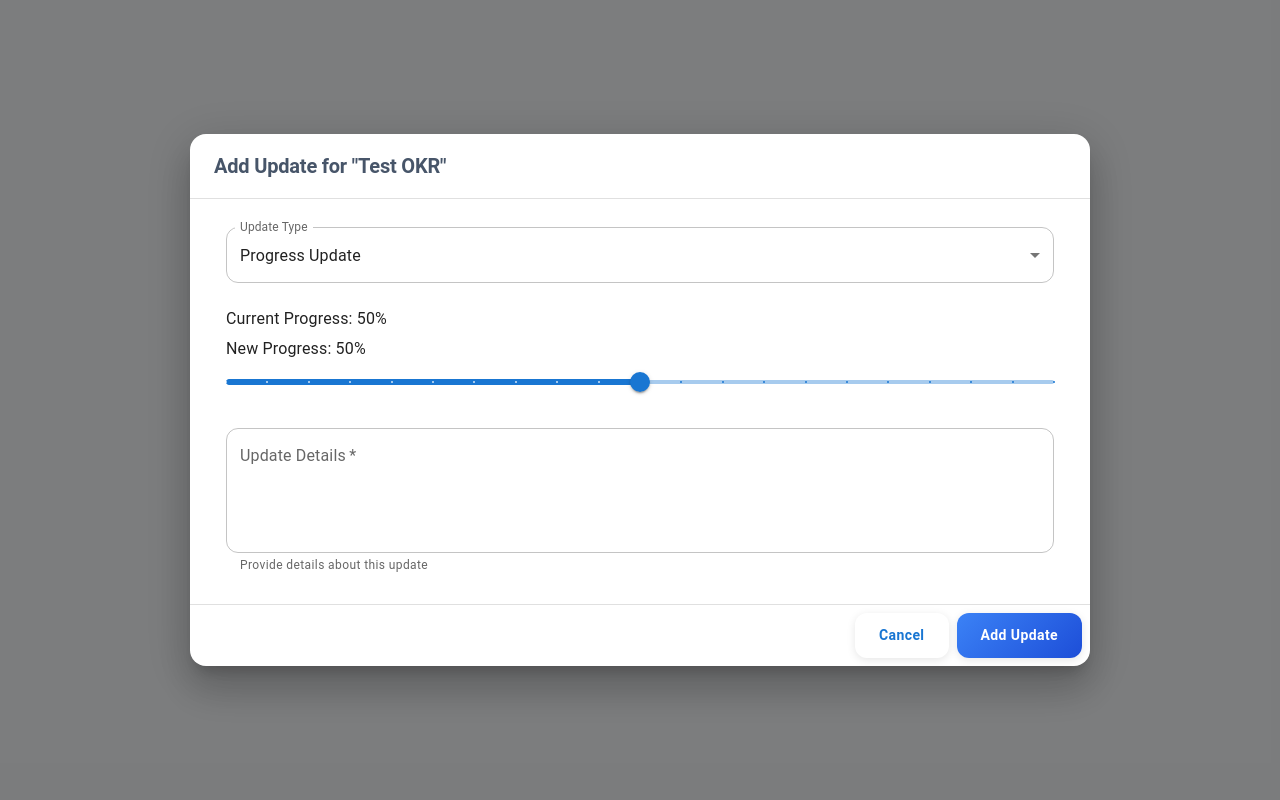
Test: OKRUpdateForm › validates required fields
Click the button "Add Update" at (1019, 635), box x1=956 y1=613 x2=1082 y2=658
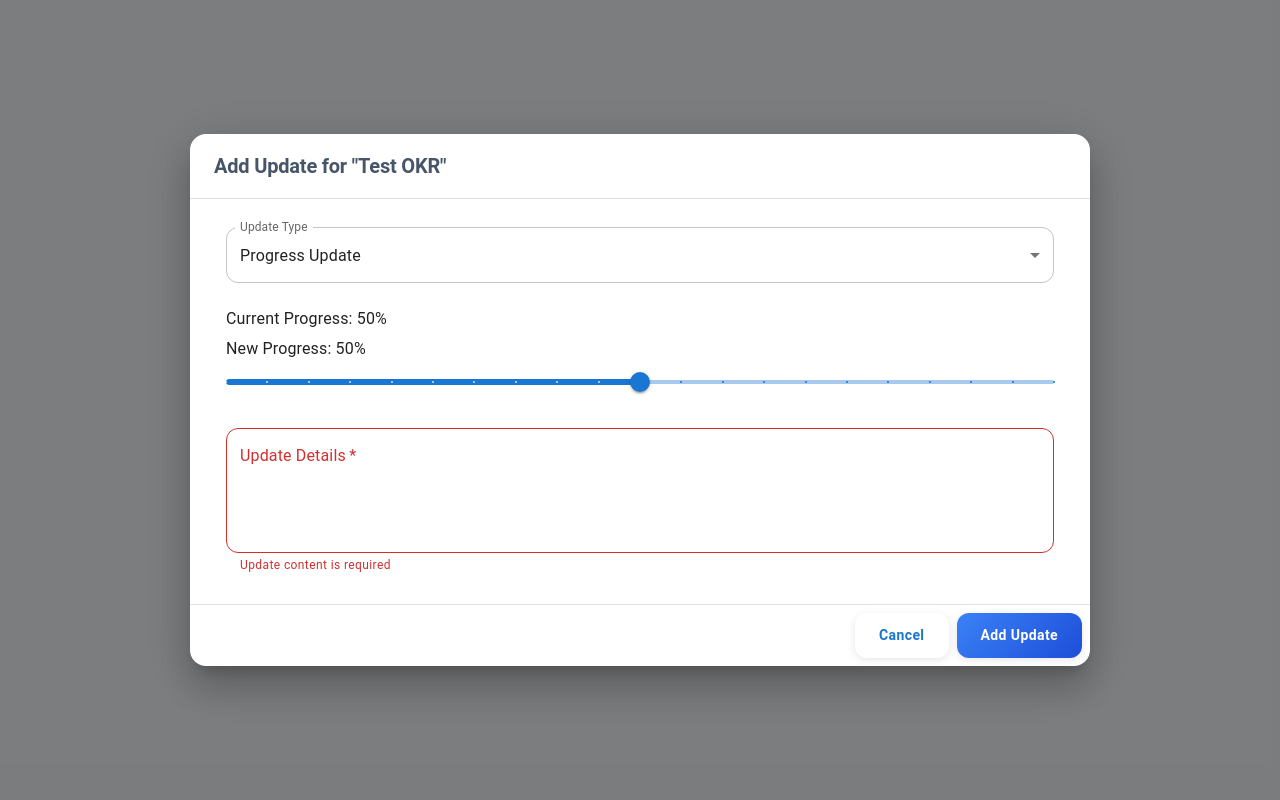
Check: the text "Update content is required" is shown, box x1=240 y1=558 x2=391 y2=572
